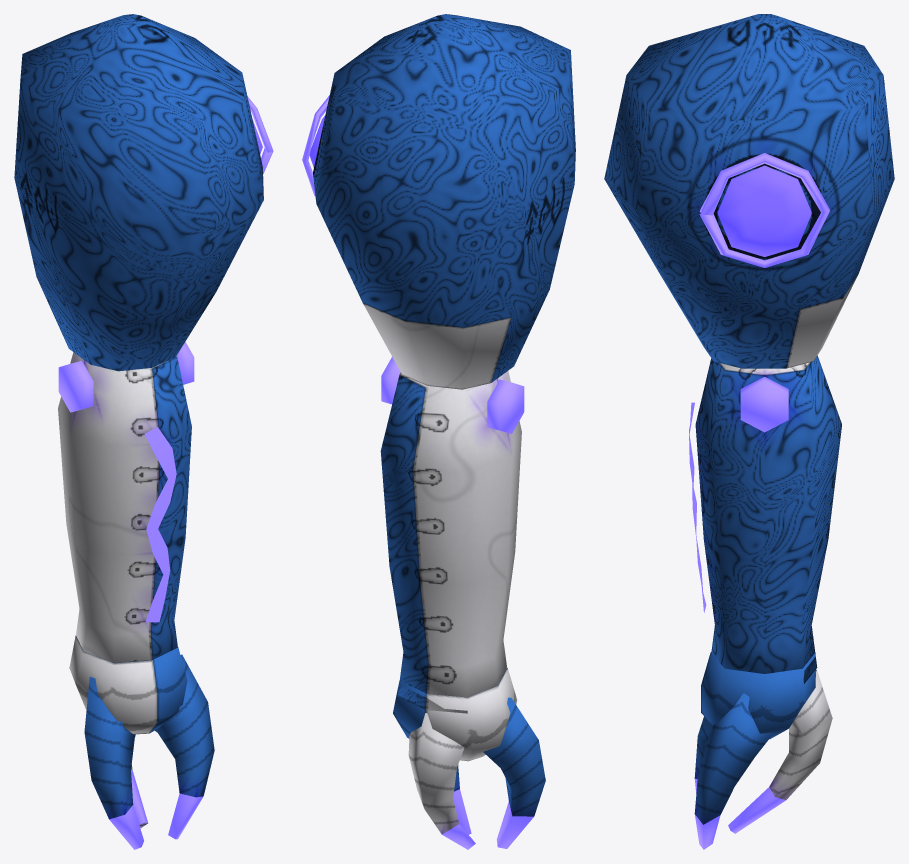
Rendered from RightBasicHandArmZ.glb.
The picture shows the model from 3 angles, left to right: view 1: azimuth 30°, elevation 25°; view 2: azimuth 150°, elevation 25°; view 3: azimuth 270°, elevation 25°; orthographic projection. The views are drawn at different scales.
Visible parts, largest first — view 1: RightBasicHandArmZ_Upper, RightBasicHandArmZ_Fore, RightBasicHandArmZ_Fist; view 2: RightBasicHandArmZ_Upper, RightBasicHandArmZ_Fore, RightBasicHandArmZ_Fist; view 3: RightBasicHandArmZ_Upper, RightBasicHandArmZ_Fore, RightBasicHandArmZ_Fist.
Part boxes in pixels (x1,y1,x2,y2): RightBasicHandArmZ_Upper: [14, 14, 273, 371]; RightBasicHandArmZ_Fore: [58, 342, 194, 662]; RightBasicHandArmZ_Fist: [69, 635, 214, 849]; RightBasicHandArmZ_Upper: [302, 14, 575, 389]; RightBasicHandArmZ_Fore: [380, 357, 524, 713]; RightBasicHandArmZ_Fist: [393, 668, 545, 849]; RightBasicHandArmZ_Upper: [604, 14, 894, 368]; RightBasicHandArmZ_Fore: [689, 355, 841, 683]; RightBasicHandArmZ_Fist: [694, 652, 832, 849].
Size of the model in its own units: 4.38 by 16.37 by 5.25.
Materials: 5 (3 with a texture image).
